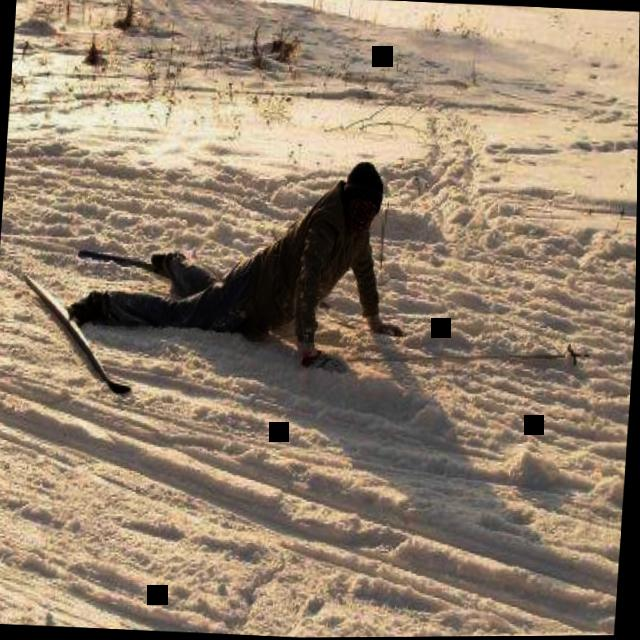Fall-Detected: (61, 128, 429, 376)
